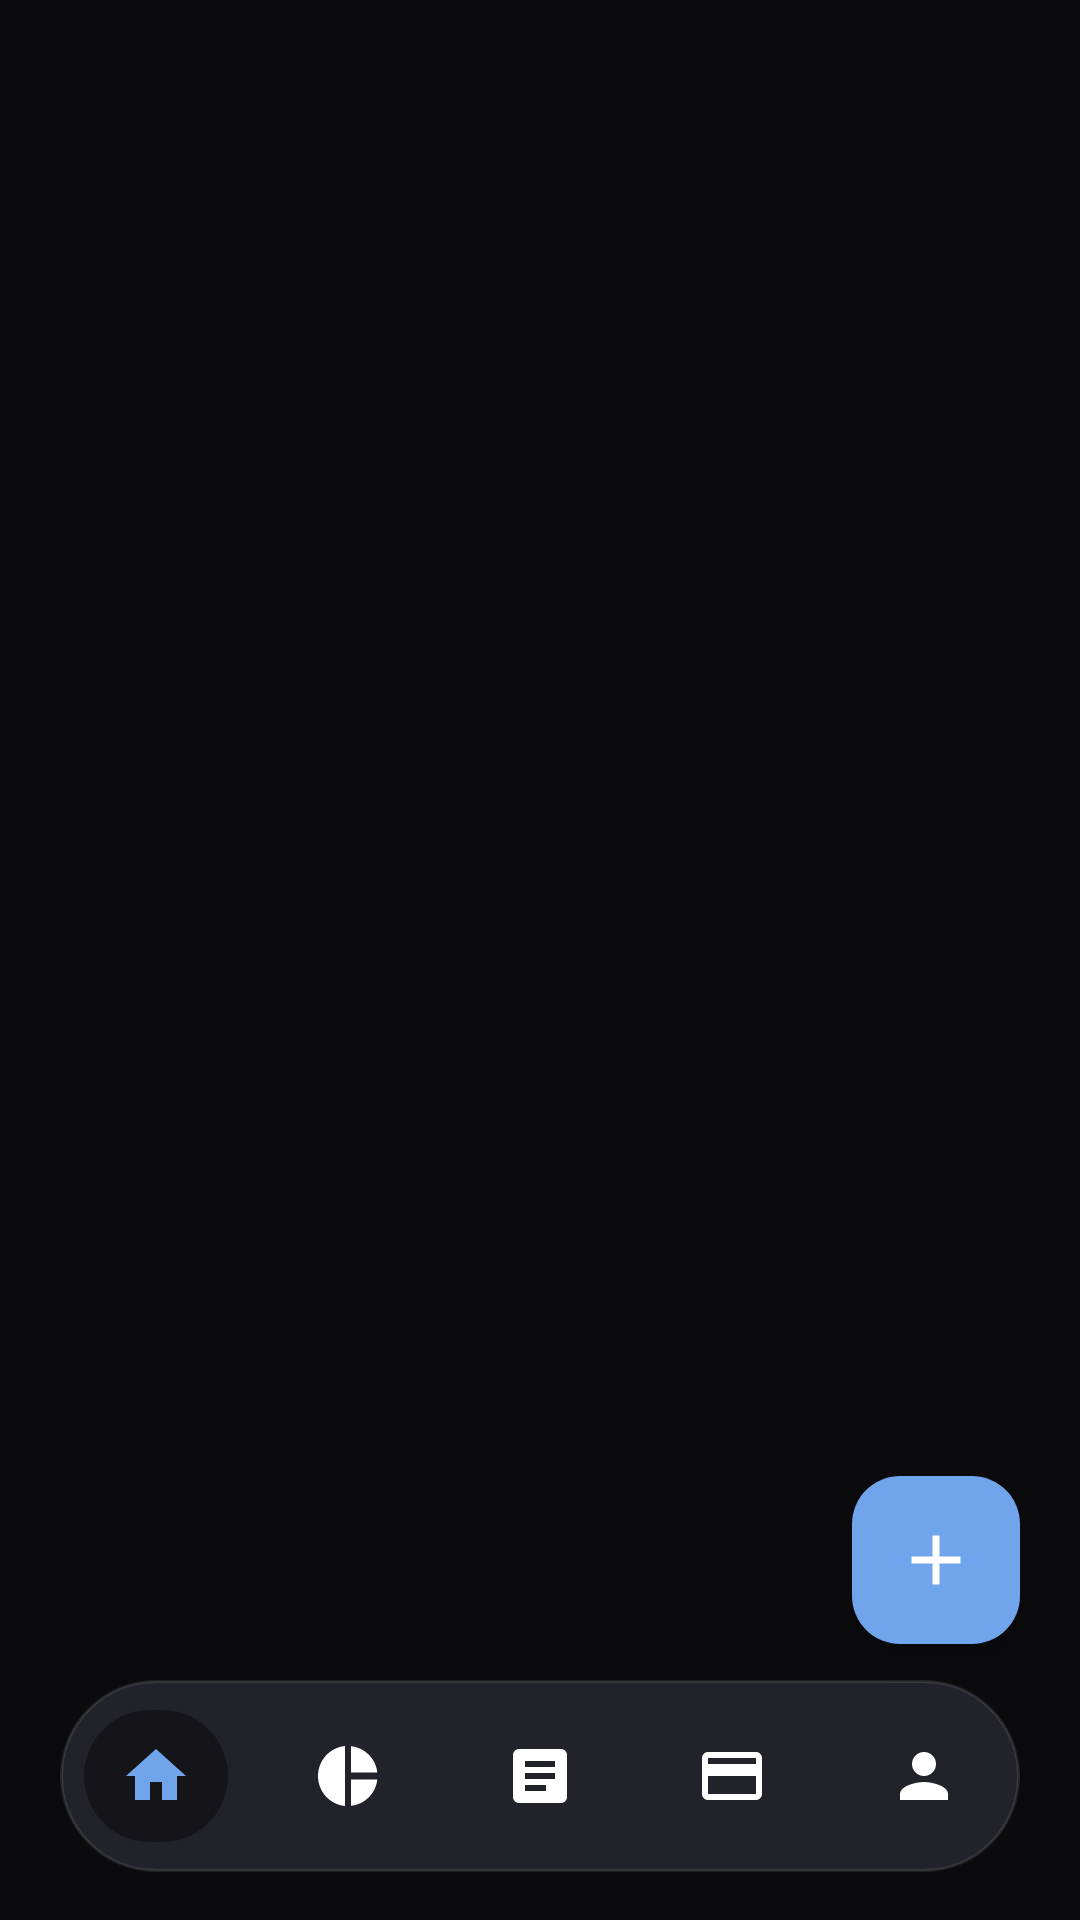

Screen size 1080px×1920px. Icon name, then its box in pixels as region(x1, y1, x2, y2):
Cá nhân: region(900, 1752, 948, 1800)
Thống kê: region(318, 1746, 378, 1806)
Trang chủ: region(126, 1749, 186, 1800)
